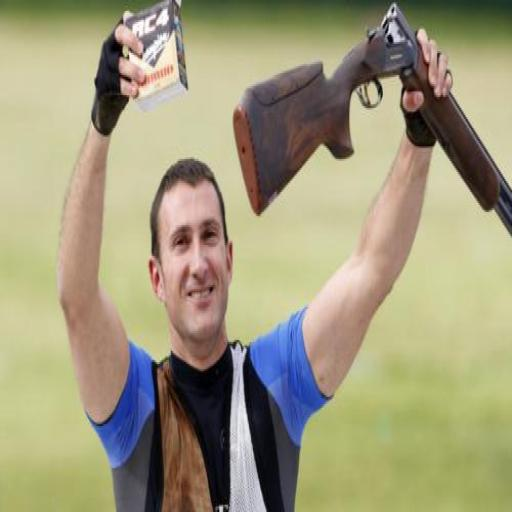shooting: (55, 6, 456, 510)
